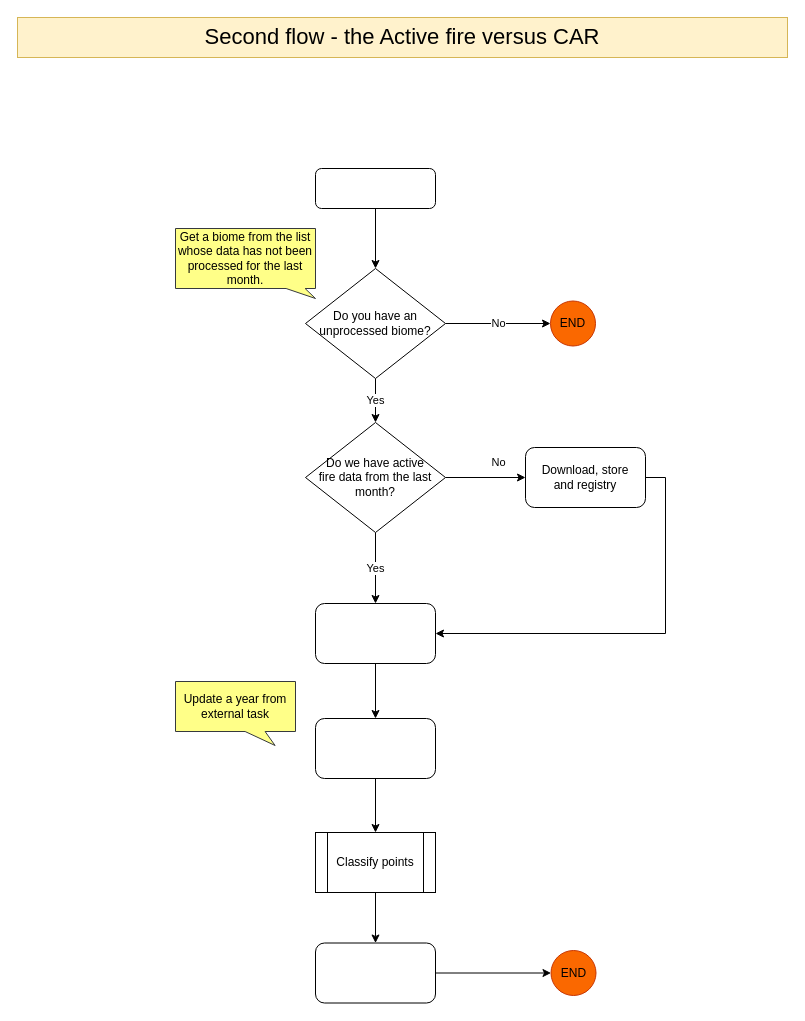
Some shapes in this 805 by 1021 pixel diagram are drawn without their labels. The shapes that lost their labels are listed below. From the top down, each one's centre as x and y in pixels, then its label:
[375,188]: Is a new month starting?
[375,633]: Select the Active fires for the last month
[375,748]: Select the CAR raster file
[375,972]: Store data and registry the completed status
